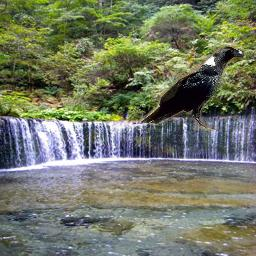Crow: (139, 45, 246, 131)
